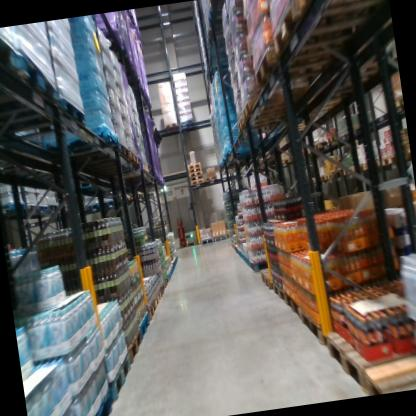pallet: (246, 14, 386, 86), (321, 309, 416, 394), (267, 0, 378, 56), (0, 99, 89, 149), (0, 45, 61, 109), (234, 93, 314, 132), (238, 85, 309, 123), (295, 295, 331, 353), (360, 357, 416, 393), (101, 351, 135, 403), (90, 146, 144, 177), (97, 158, 154, 186), (295, 0, 388, 14), (70, 388, 115, 416), (119, 327, 146, 369), (260, 263, 292, 295), (0, 26, 20, 73), (247, 252, 283, 276), (133, 310, 154, 343), (109, 135, 134, 162), (282, 287, 301, 321), (271, 279, 288, 309), (339, 162, 366, 180), (122, 187, 152, 203), (1, 199, 27, 215), (380, 148, 398, 168), (362, 156, 382, 174), (322, 124, 339, 145), (148, 288, 163, 311), (390, 90, 404, 113), (99, 197, 119, 213), (144, 299, 158, 320), (309, 139, 327, 154), (162, 120, 180, 134), (178, 116, 195, 130), (195, 235, 214, 247), (203, 171, 219, 185), (24, 199, 40, 213), (185, 158, 202, 171), (314, 172, 328, 187), (274, 153, 293, 164), (36, 198, 49, 214), (212, 230, 229, 242), (155, 282, 166, 299), (330, 167, 343, 180), (47, 200, 60, 212), (161, 276, 171, 291), (84, 202, 99, 212), (188, 166, 204, 175), (324, 169, 334, 182), (188, 171, 203, 178), (190, 180, 204, 187), (190, 176, 204, 182), (229, 241, 234, 250)
